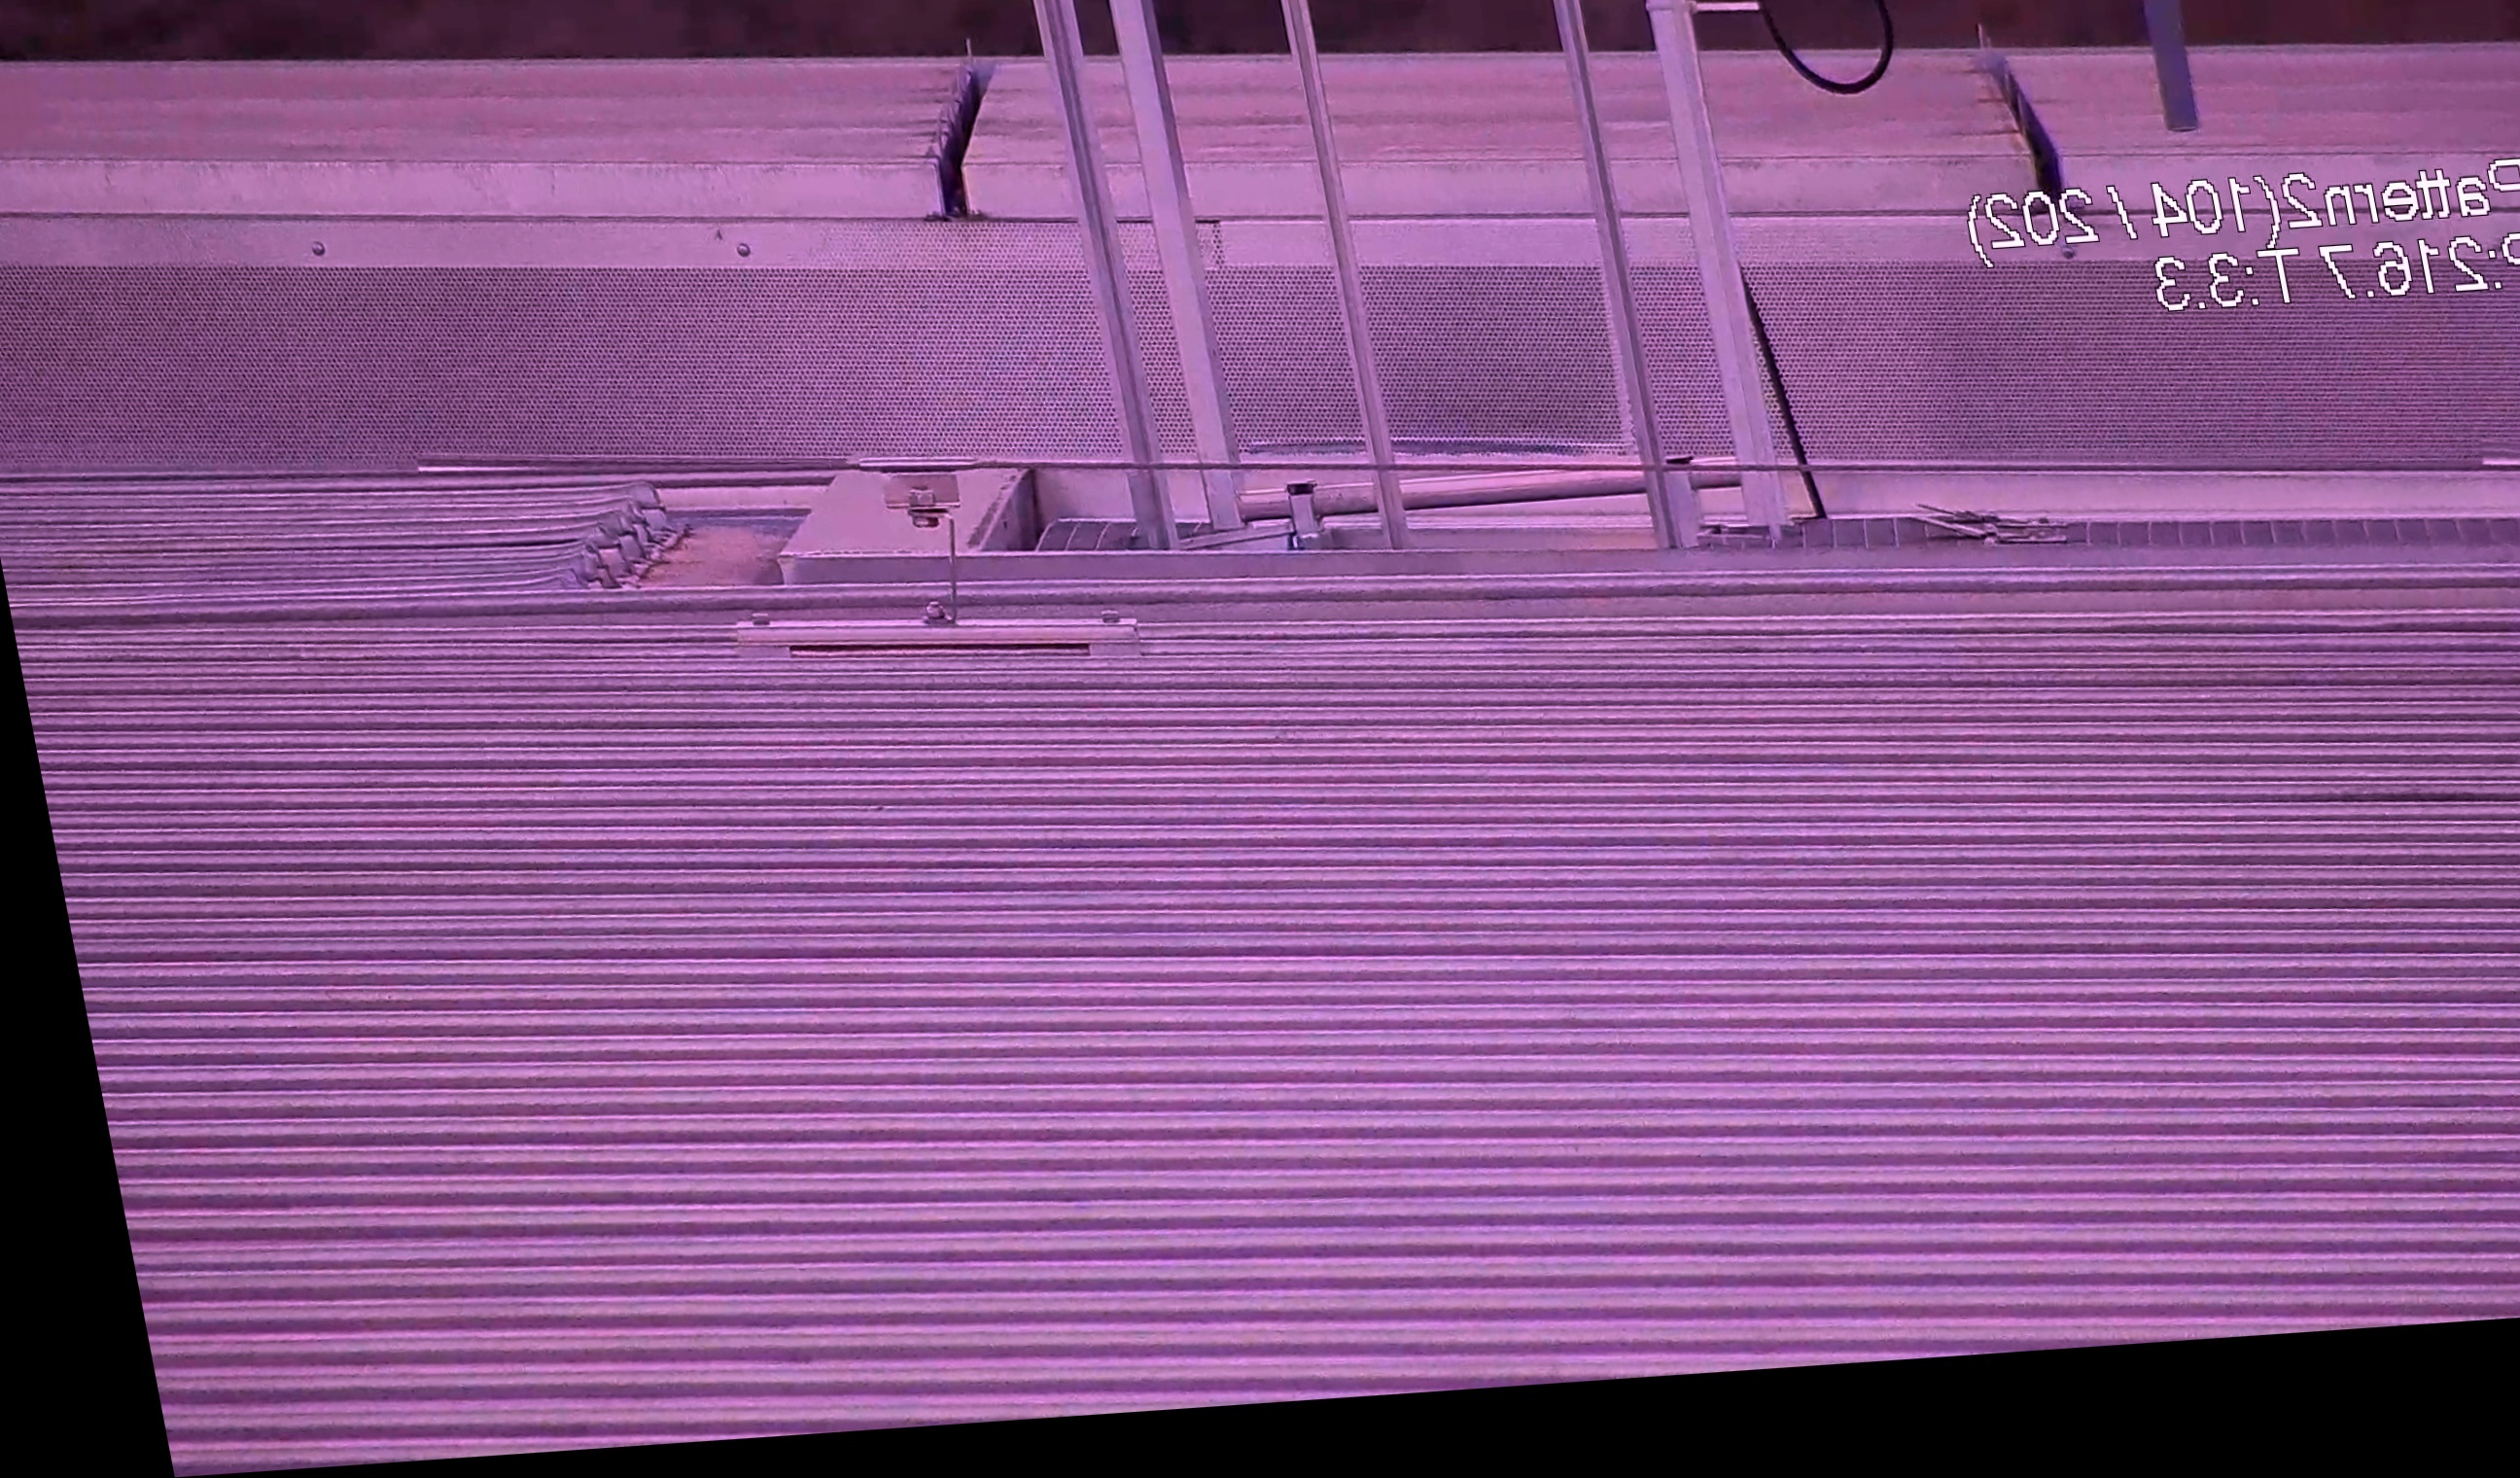Other: (879, 30, 1034, 227)
